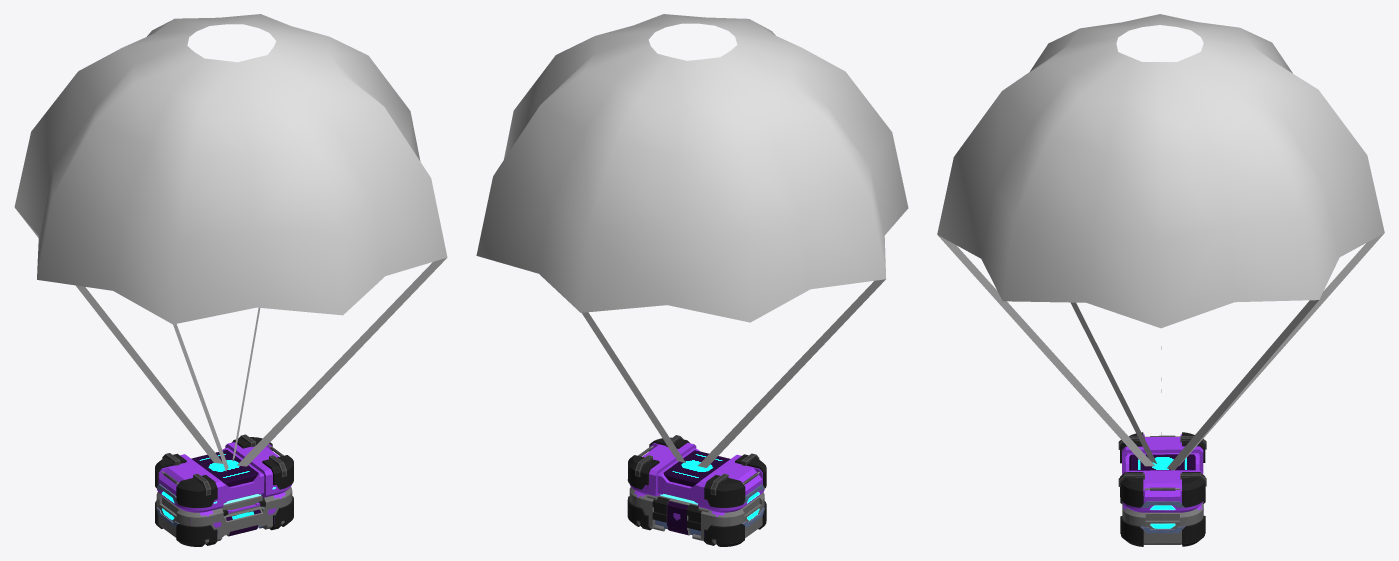
Rendered from purple.glb.
3 renders of one model, left to right at view 1: azimuth 30°, elevation 25°; view 2: azimuth 150°, elevation 25°; view 3: azimuth 270°, elevation 25°, orthographic.
Parts seen in each view (by area): view 1: parachute, airdrop; view 2: parachute, airdrop; view 3: parachute, airdrop.
Part boxes in pixels (box(x1,y1,x2,y2)): parachute: box(14, 14, 447, 471); airdrop: box(155, 434, 293, 546); parachute: box(476, 14, 908, 467); airdrop: box(627, 435, 766, 546); parachute: box(937, 14, 1384, 470); airdrop: box(1118, 432, 1206, 546).
Bounding box in the file's own units: 275 × 326 × 275.
1 material, 1 textured.
